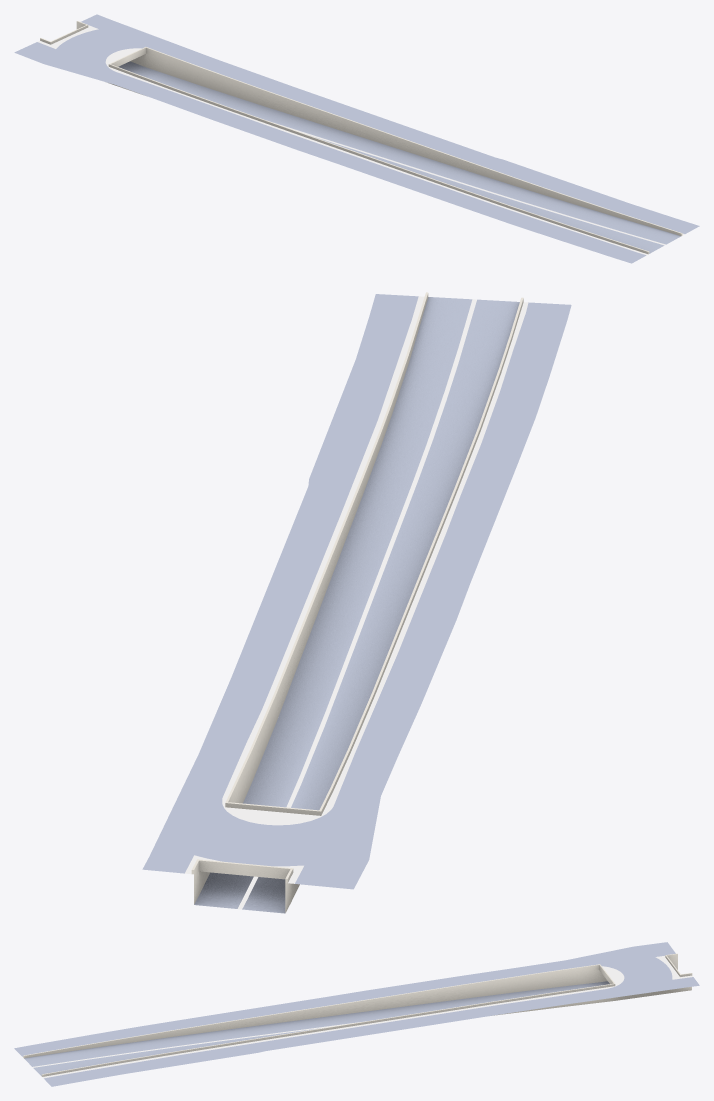
The model's file is Saina-Zhubanov.glb.
3 views of the same model, one above another, from view 1: azimuth 30°, elevation 25°; view 2: azimuth 150°, elevation 25°; view 3: azimuth 270°, elevation 25° (orthographic). The views are drawn at different scales.
Visible parts, largest first — view 1: group_2, group_5, group_4; view 2: group_2, group_4, group_5; view 3: group_2, group_5, group_4.
Boxes of the visible parts, <box> form: group_2: <box>14,14,699,263</box>; group_5: <box>40,21,682,254</box>; group_4: <box>37,25,684,255</box>; group_2: <box>142,294,571,913</box>; group_4: <box>185,296,528,909</box>; group_5: <box>191,292,523,912</box>; group_2: <box>14,942,699,1086</box>; group_5: <box>23,953,692,1076</box>; group_4: <box>22,956,692,1078</box>.
Bounding box in the file's own units: 142 × 8 × 285.
3 materials, 2 textured.
